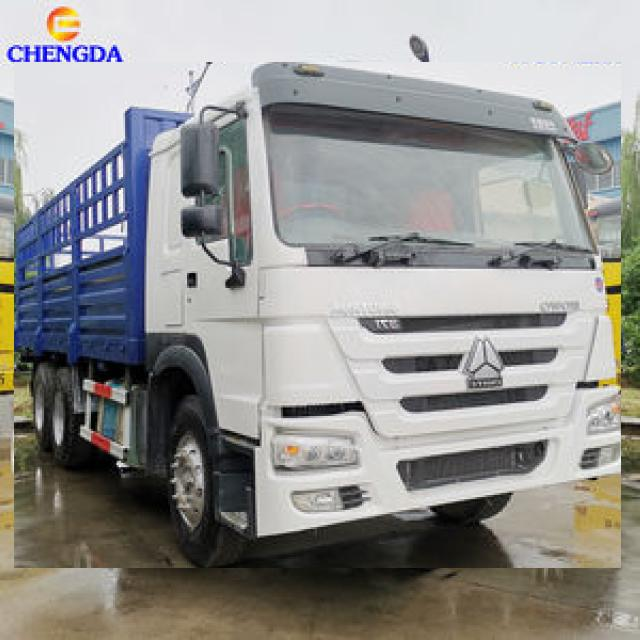truck: (14, 63, 621, 568)
